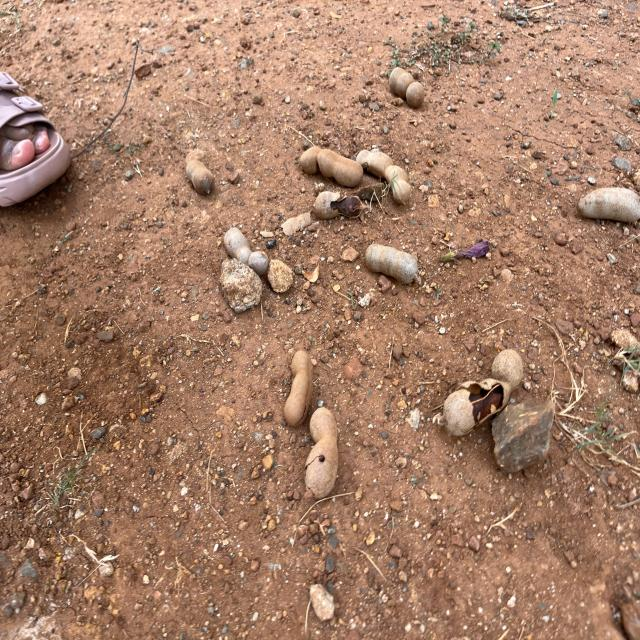tamarind: (441, 349, 525, 429), (354, 149, 410, 204), (306, 408, 336, 498), (301, 146, 363, 188), (578, 186, 640, 228), (364, 242, 418, 284), (284, 350, 313, 428), (224, 227, 269, 273), (314, 192, 366, 222), (185, 147, 216, 195), (389, 66, 424, 106)
